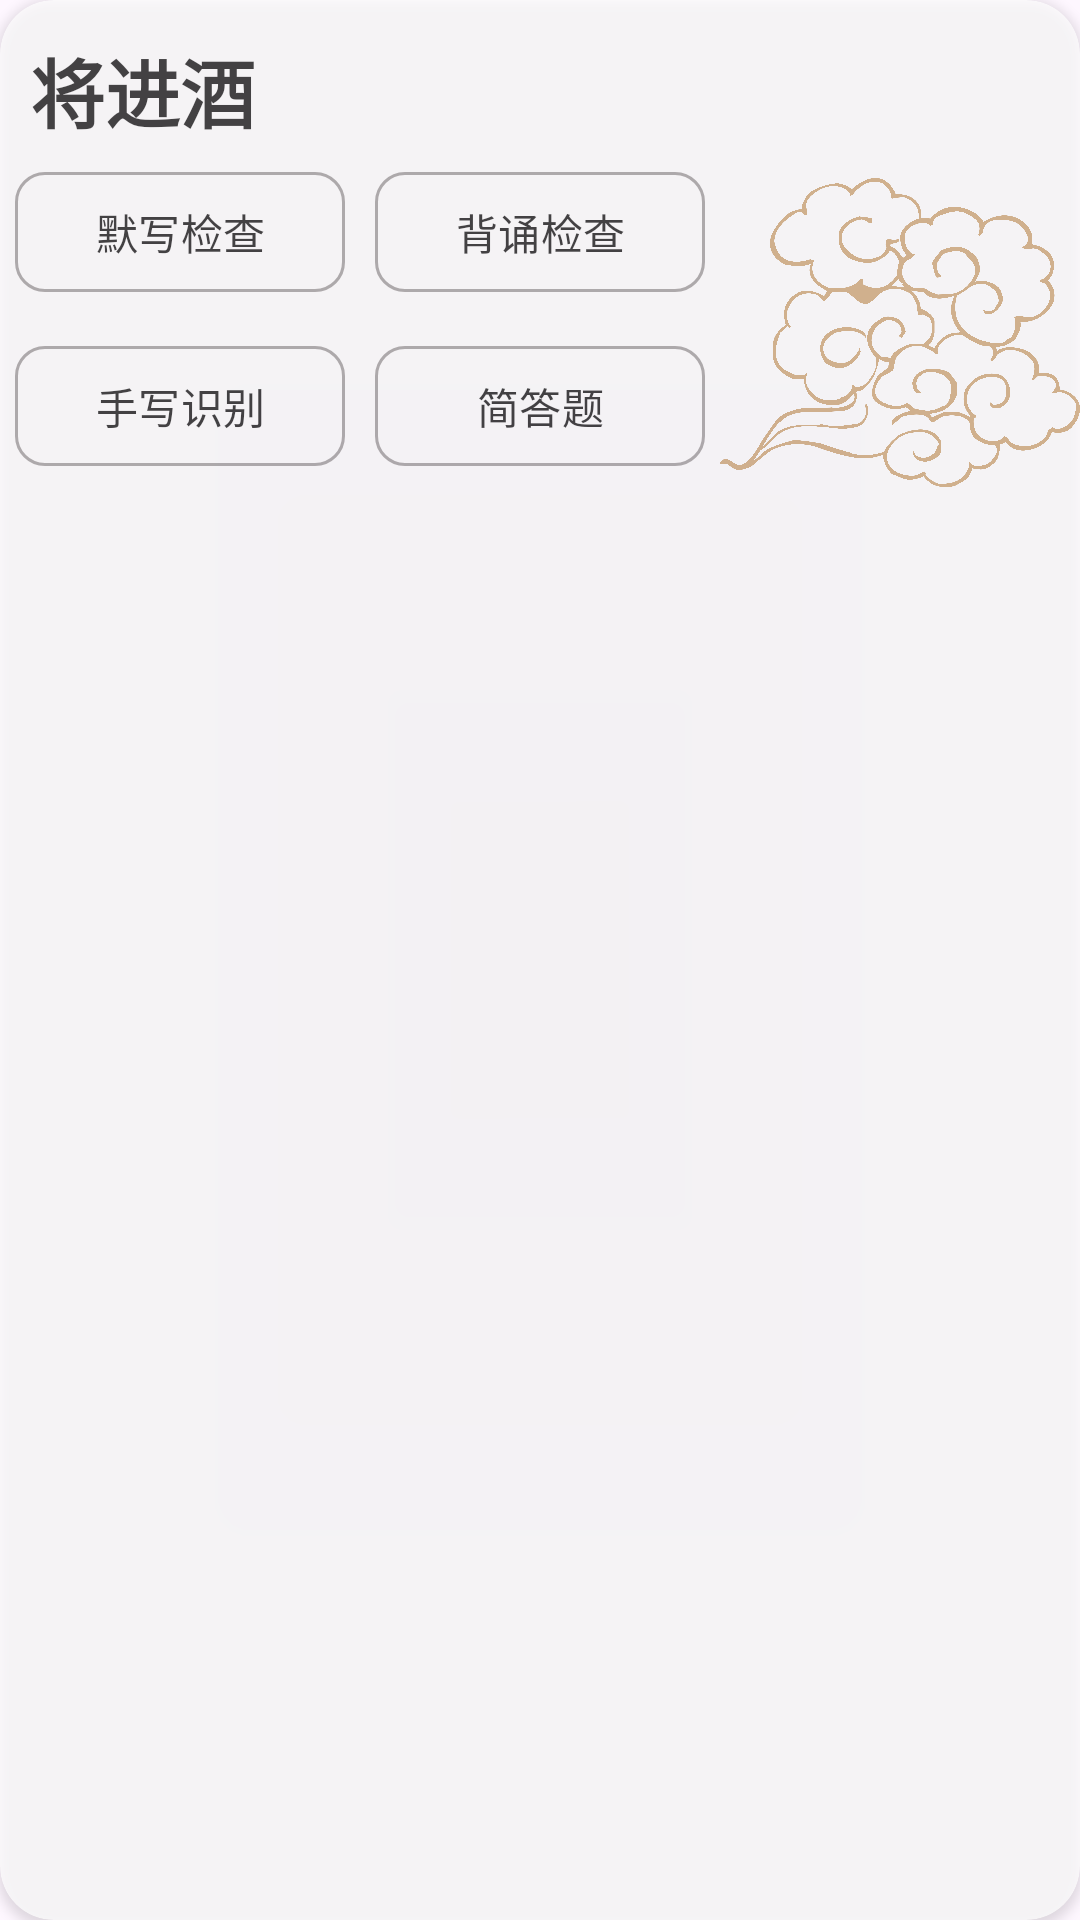

Icon click points for this 1080 × 1920 phone screenshot, format [x,y]:
pic cloud: [900,332]
